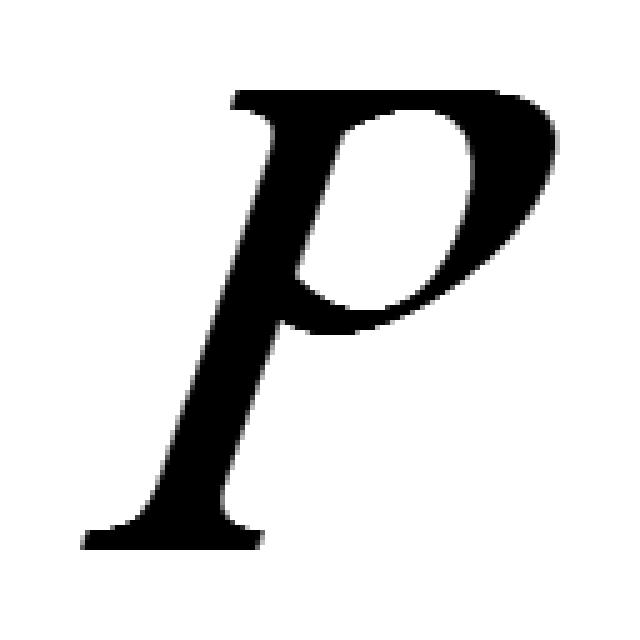P: (85, 90, 560, 555)
